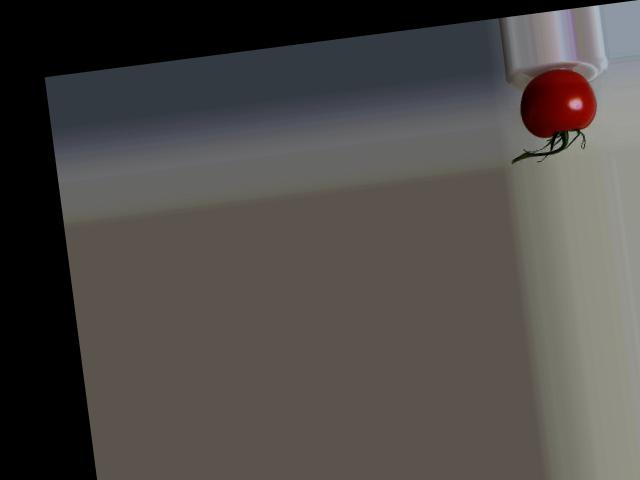tomato: (515, 65, 599, 140)
